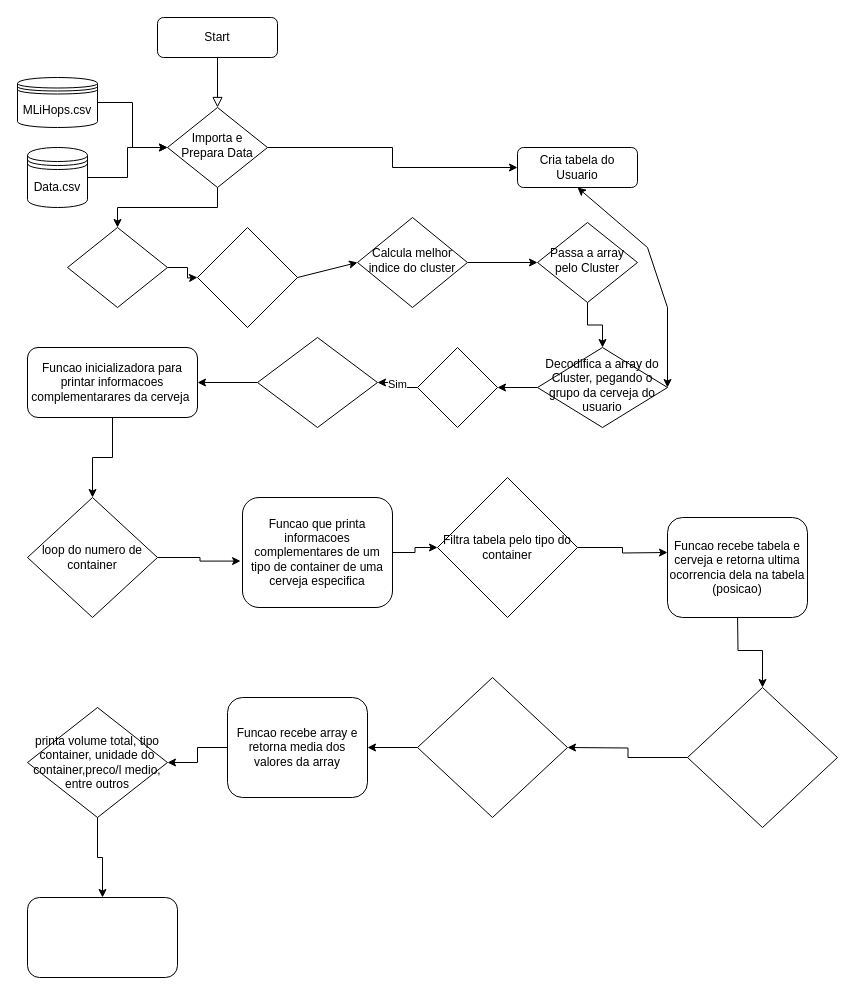
The diagram is 855 pixels wide and 995 high, and some of its shapes have lost their labels. The shapes that lost their labels are listed below. From the top down, each one's box as (x1, y1, x2, y2) in pixels, then its label:
(66, 226, 168, 308): Cria array da Tabela MLiHops
(196, 226, 298, 328): Cria dicionario com recomendacoes de cada tipo
(256, 336, 378, 428): Faz recomendacao baseadas no tipo da cerveja, usando o dicionario
(416, 346, 498, 428): Se diferente da cerveja do Usuario
(416, 676, 568, 818): Transforma a fileira do preco/l em array
(686, 686, 838, 828): Filtra tabela em um timespan de um mes antes da ultima ocorrencia
(26, 896, 178, 978): OUTPUT
